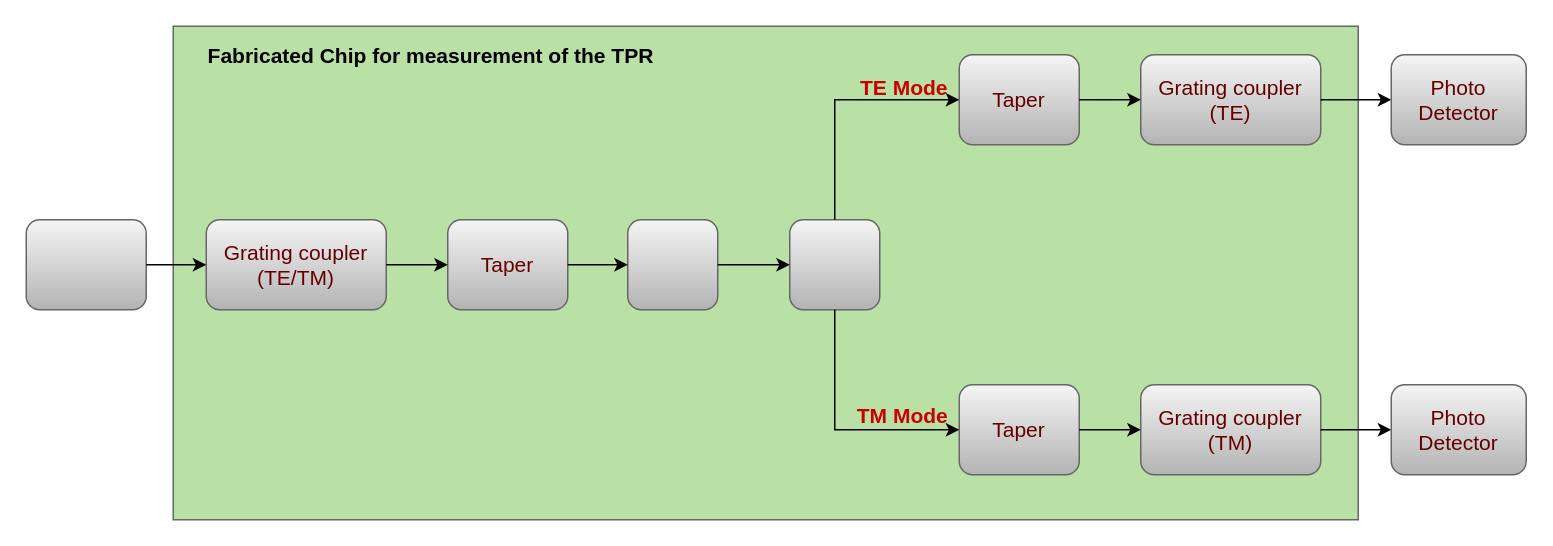
This 1553x546 diagram has some shape labels left out. The shapes that lost their labels are listed below. From the top down, each one's centre as x and y in pixels, then its label:
the point at 85,264: LASER Input
the point at 672,264: TPR
the point at 834,264: PBS
